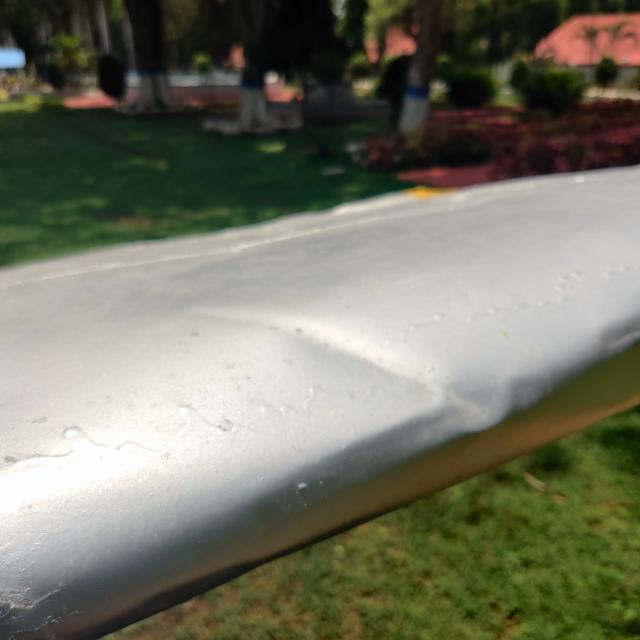dent: (258, 294, 544, 459), (580, 307, 640, 367)
